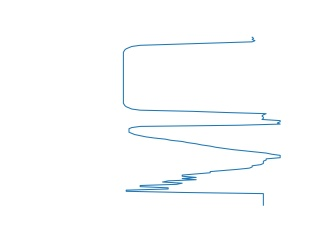aeolianDune: (118, 36, 268, 119)
beach: (126, 119, 280, 160)
proximalDeepseaFan: (123, 160, 277, 208)
